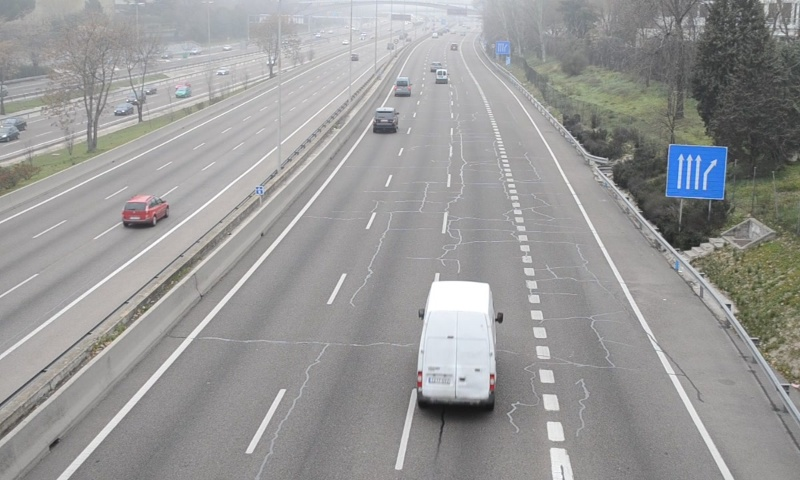car: (373, 107, 398, 132)
van: (415, 280, 496, 410), (393, 76, 410, 97)
